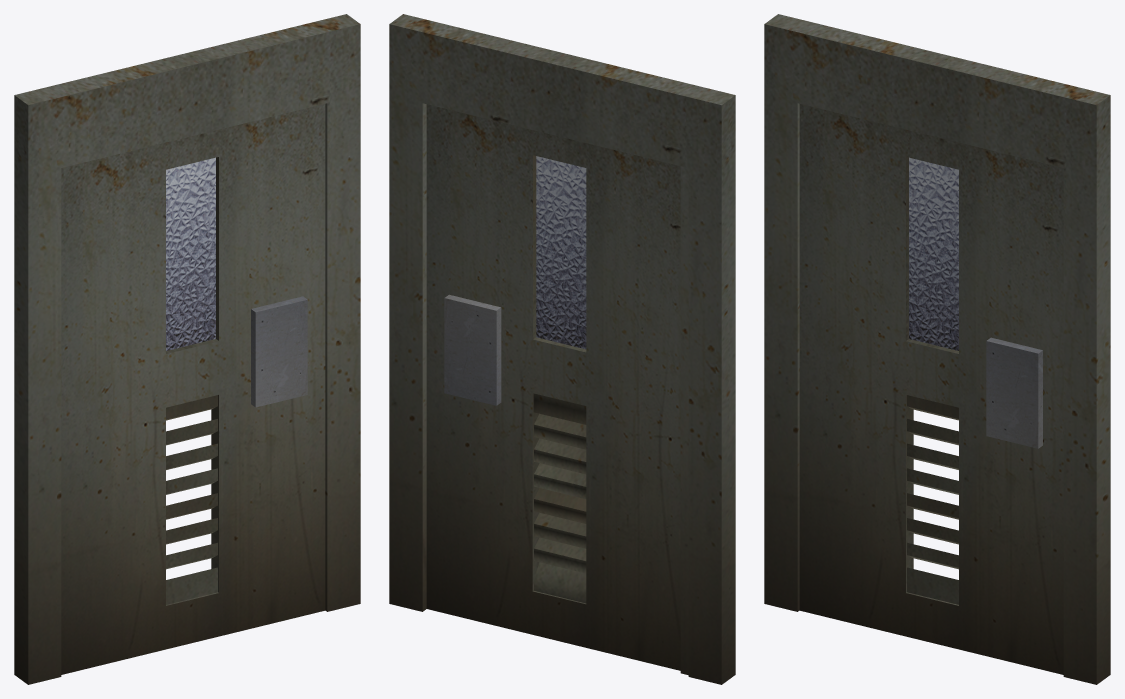
The model's file is ReToiletDoor.fbx.
The picture shows the model from 3 angles, left to right: view 1: azimuth 30°, elevation 25°; view 2: azimuth 150°, elevation 25°; view 3: azimuth 330°, elevation 25°; orthographic projection.
Visible parts, largest first — view 1: Door, Flame; view 2: Door, Flame; view 3: Door, Flame.
Part boxes in pixels (box(x1,y1,x2,y2)): Door: box(61, 104, 325, 674); Flame: box(14, 14, 360, 684); Door: box(426, 104, 680, 670); Flame: box(389, 14, 735, 684); Door: box(799, 104, 1063, 674); Flame: box(764, 14, 1110, 684).
Bounding box in the file's own units: 180 × 300 × 16.05.
